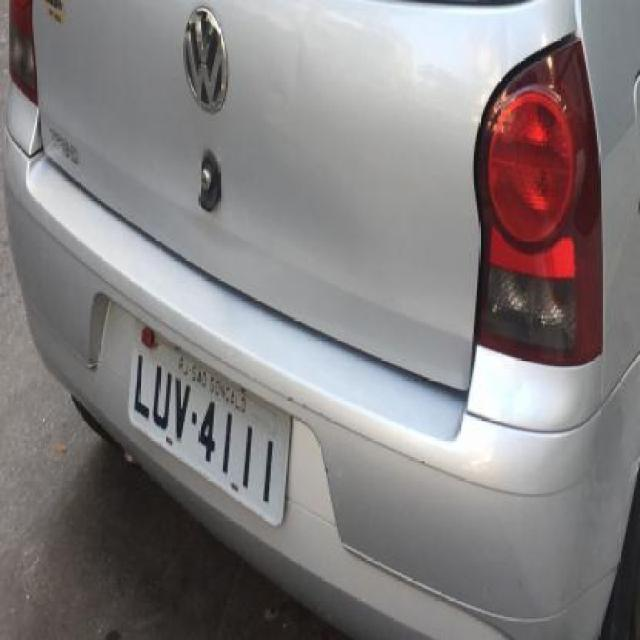old_plate: (122, 312, 298, 533)
